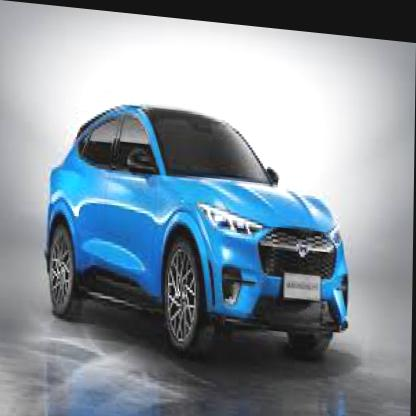Car: (45, 95, 352, 362)
